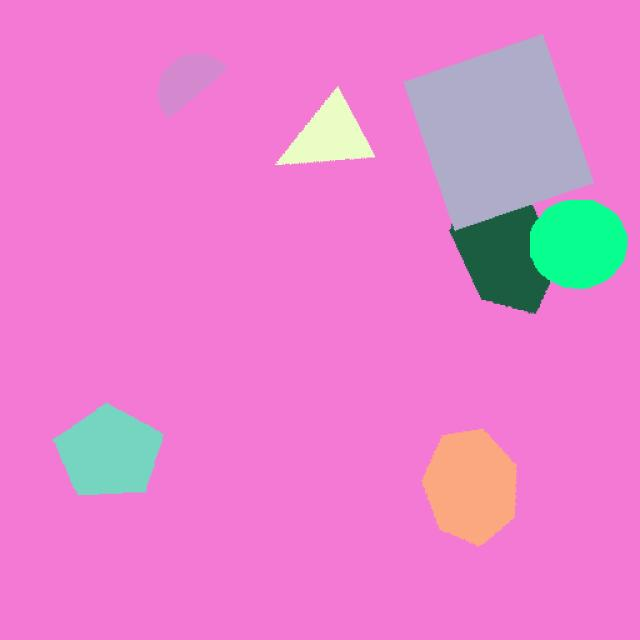Circle: (516, 185, 634, 303)
Heptagon: (394, 408, 562, 567)
Pentagon: (426, 165, 567, 338), (50, 402, 188, 504)
Semicircle: (150, 44, 231, 125)
Triangle: (269, 72, 389, 186)
square: (398, 27, 606, 230)
